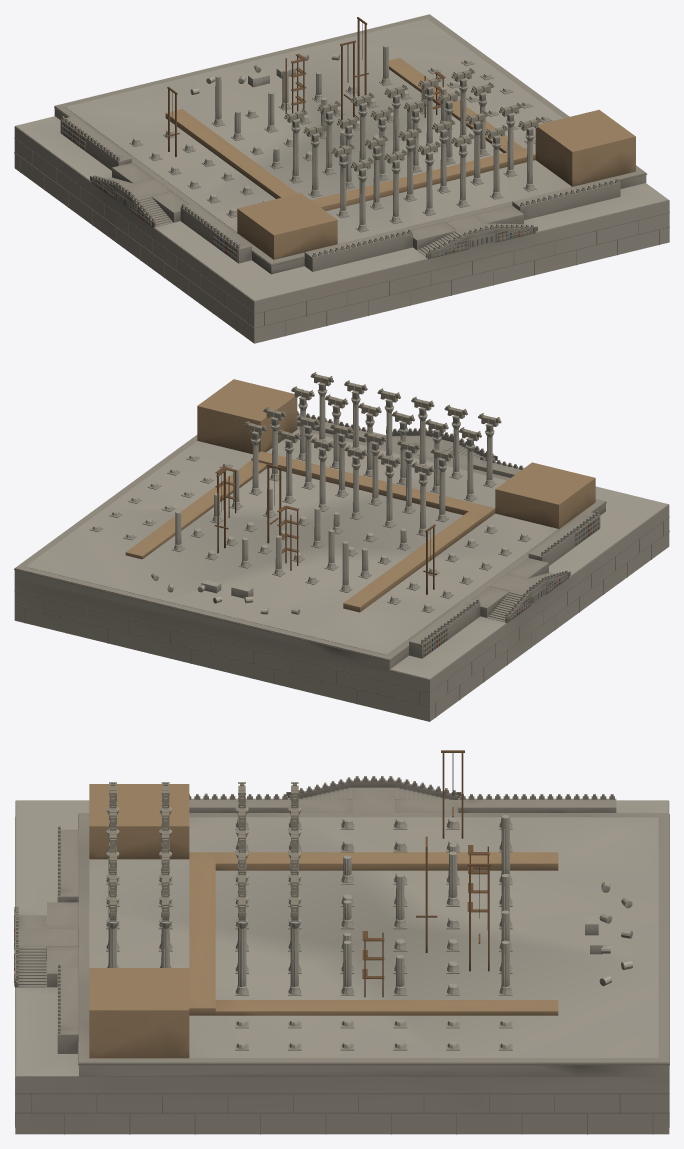
Rendered from apadana-500.glb.
3 renders of one model, top to bottom at view 1: azimuth 30°, elevation 25°; view 2: azimuth 150°, elevation 25°; view 3: azimuth 270°, elevation 25°, orthographic. The views are drawn at different scales.
Visible parts, largest first — view 1: p0_platform, p1_columns; view 2: p0_platform, p1_columns; view 3: p0_platform, p1_columns.
Boxes of the visible parts, x1,y1,x2,y2 form: p0_platform: [14, 14, 669, 343]; p1_columns: [129, 17, 635, 259]; p0_platform: [14, 411, 669, 721]; p1_columns: [89, 372, 595, 614]; p0_platform: [14, 776, 669, 1134]; p1_columns: [89, 750, 632, 1058].
Size of the model in its own units: 124 by 37.45 by 124.
